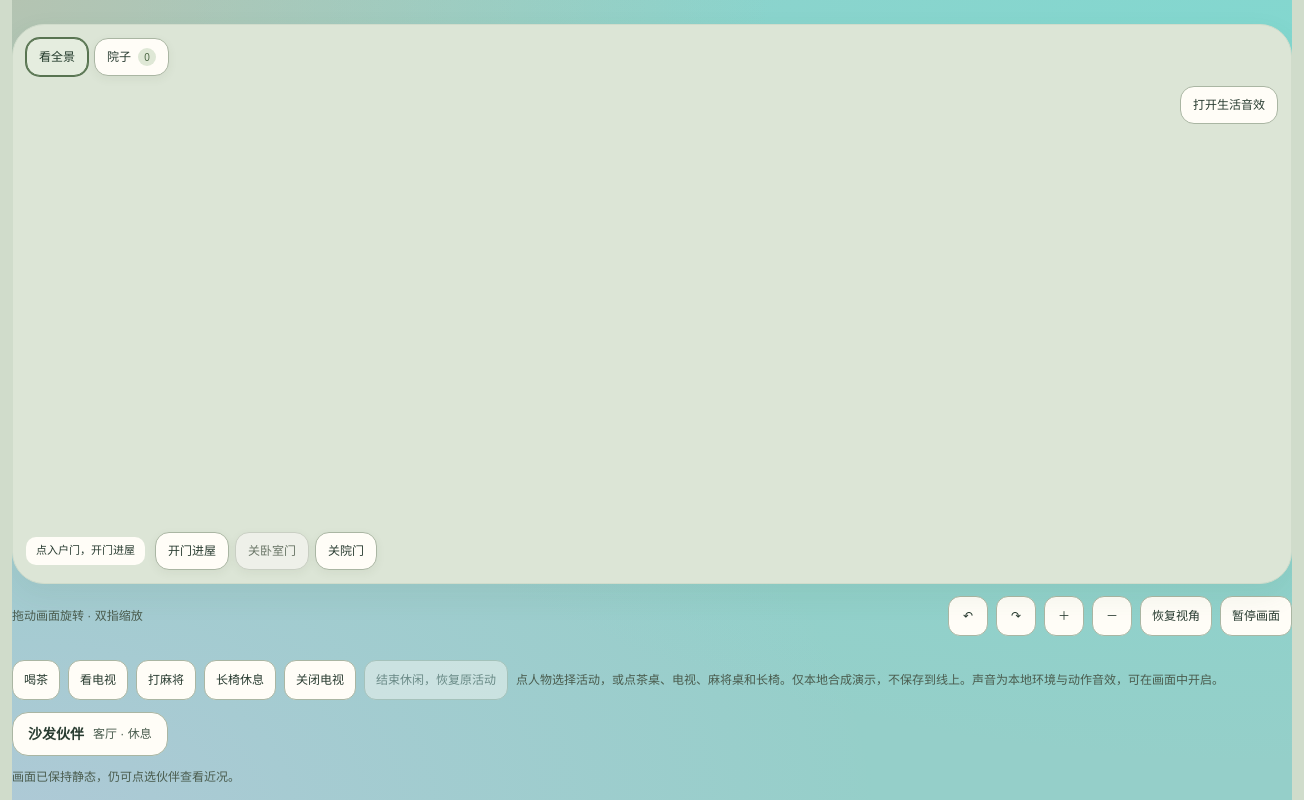
Test: daily local farmhouse entry with the real engine › starts with a complete exterior, enters by opening the front door, then closes it when returning to the yard
Click the button "院子 0" at (132, 57), box x1=94 y1=38 x2=169 y2=76
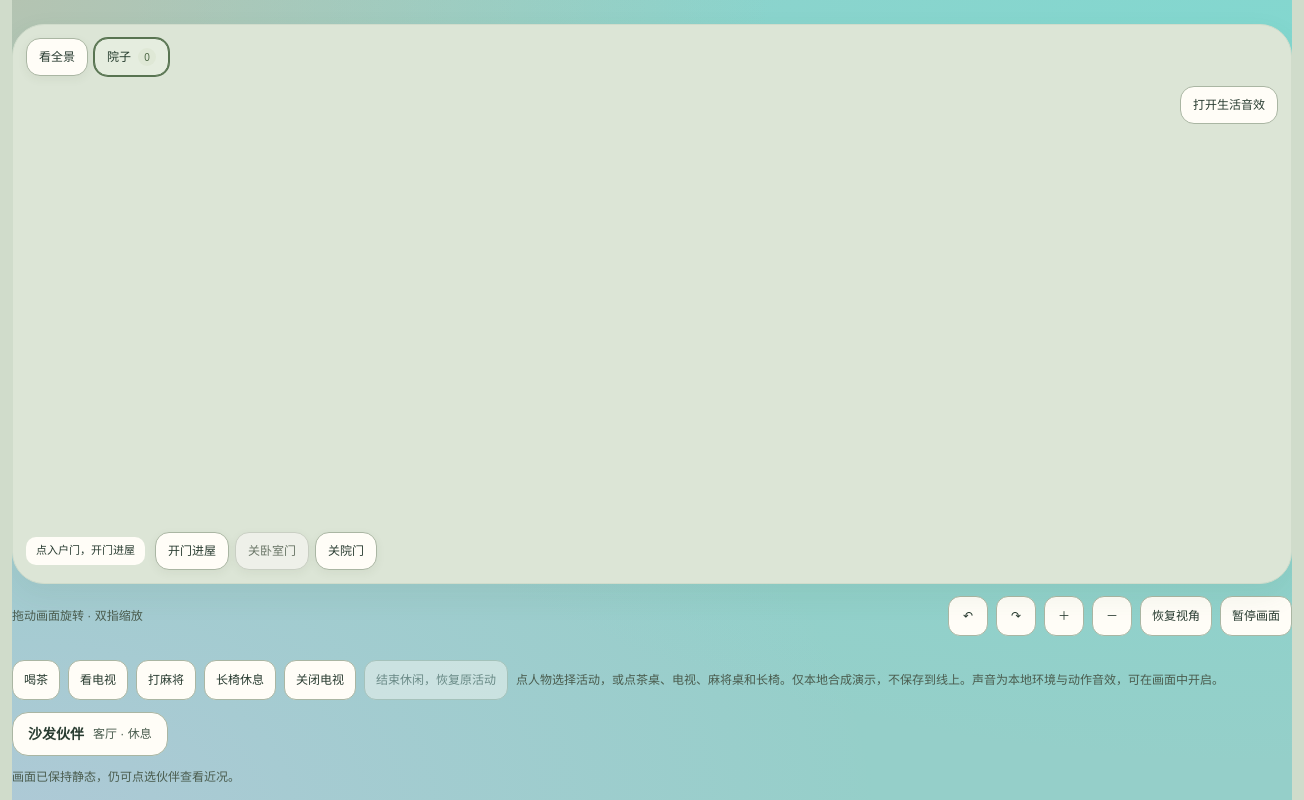
Now the button "院子 0" is pressed, box x1=94 y1=38 x2=169 y2=76
Now the button "看全景" is not pressed, box x1=26 y1=38 x2=88 y2=76
Now the element with test id "living3d-canvas" has attribute data-focus-view="outdoor", box x1=13 y1=25 x2=313 y2=175
Click the button with aria-label "打开入户门" at (192, 551), box x1=155 y1=532 x2=229 y2=570
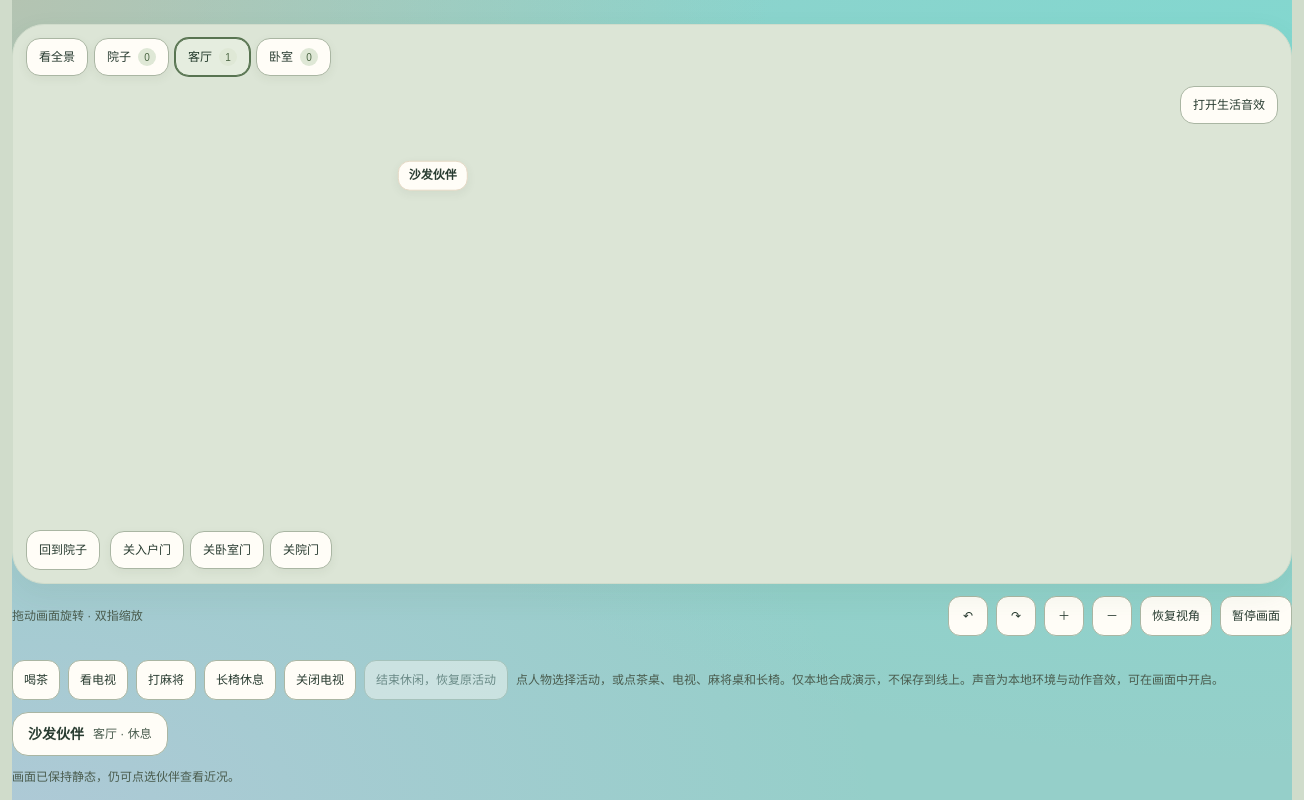
Now the element with test id "living3d-canvas" has attribute data-house-view="interior", box x1=13 y1=25 x2=313 y2=175
Click the button "回到院子" at (63, 550), box x1=26 y1=530 x2=100 y2=570
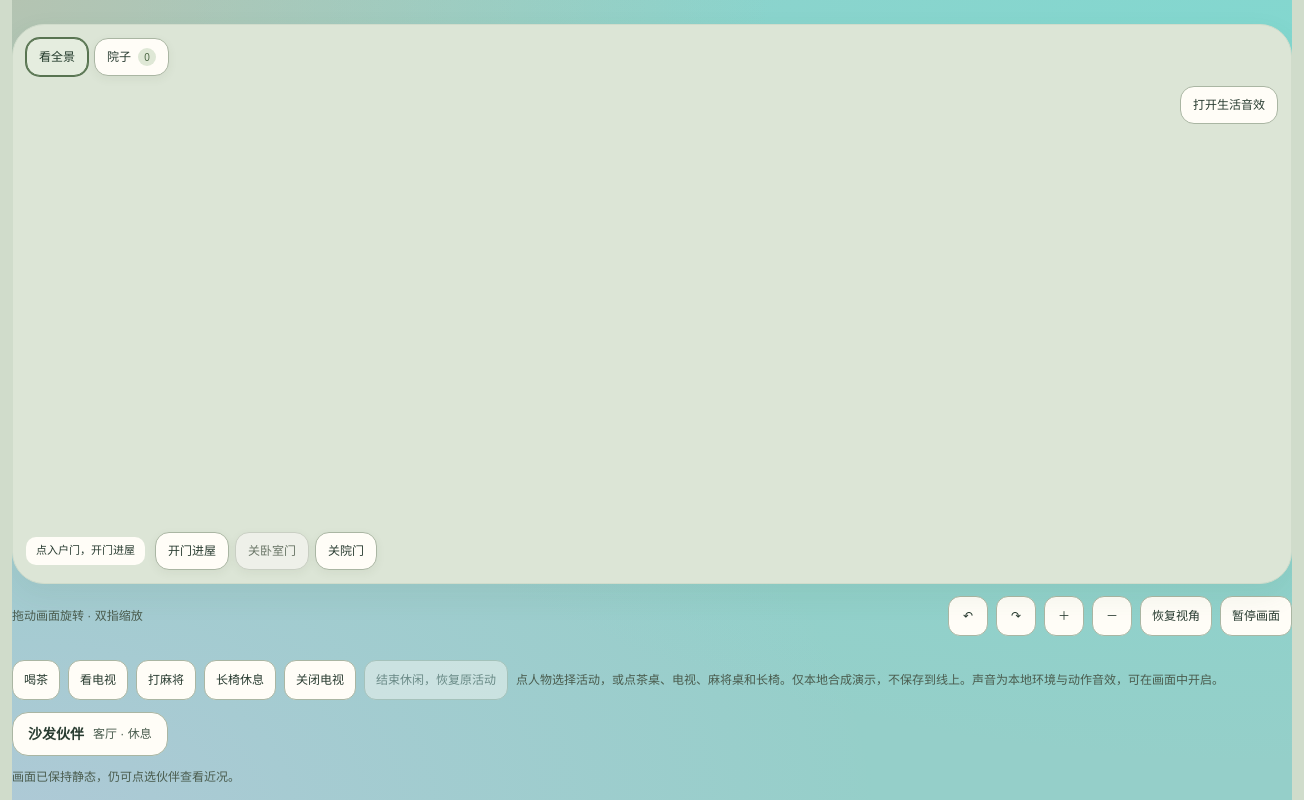
Now the button with aria-label "打开入户门" reads "开门进屋", box x1=155 y1=532 x2=229 y2=570
